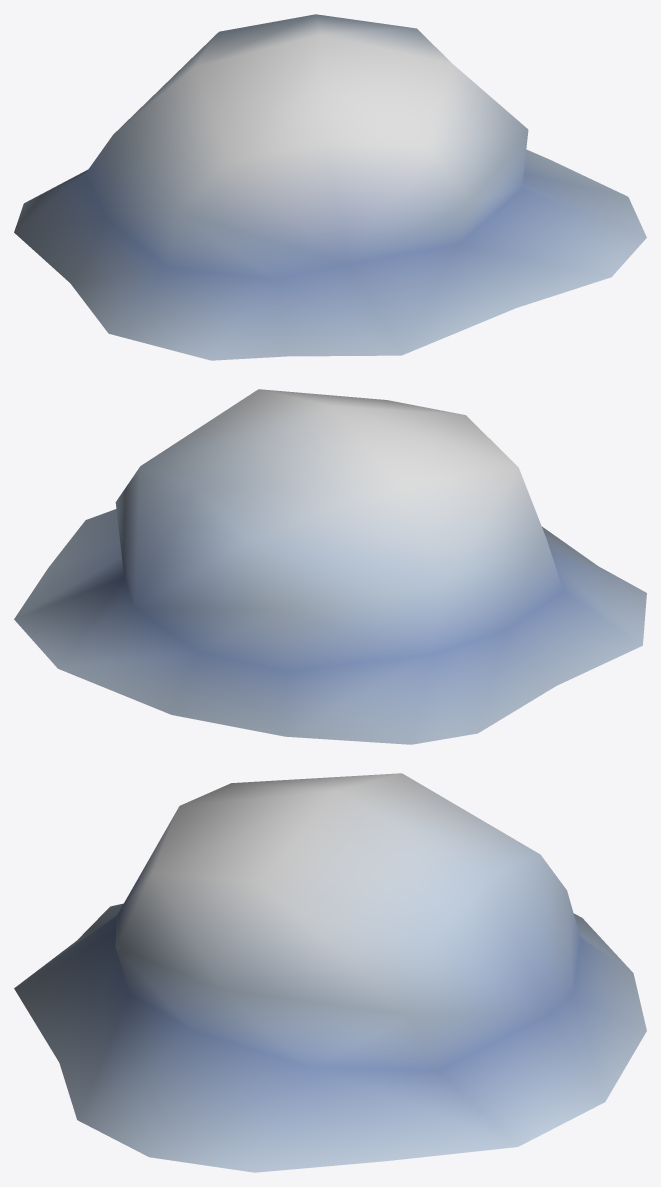
The model's file is SmooshedSnowball.fbx.
3 views of the same model, one above another, from view 1: azimuth 30°, elevation 25°; view 2: azimuth 150°, elevation 25°; view 3: azimuth 270°, elevation 25° (orthographic). The views are drawn at different scales.
Parts seen in each view (by area): view 1: SnowballSmooshed; view 2: SnowballSmooshed; view 3: SnowballSmooshed.
Part boxes in pixels (<box>): SnowballSmooshed: <box>14,14,646,360</box>; SnowballSmooshed: <box>14,389,646,744</box>; SnowballSmooshed: <box>14,773,646,1172</box>.
Bounding box in the file's own units: 25.33 × 9.26 × 23.08.
